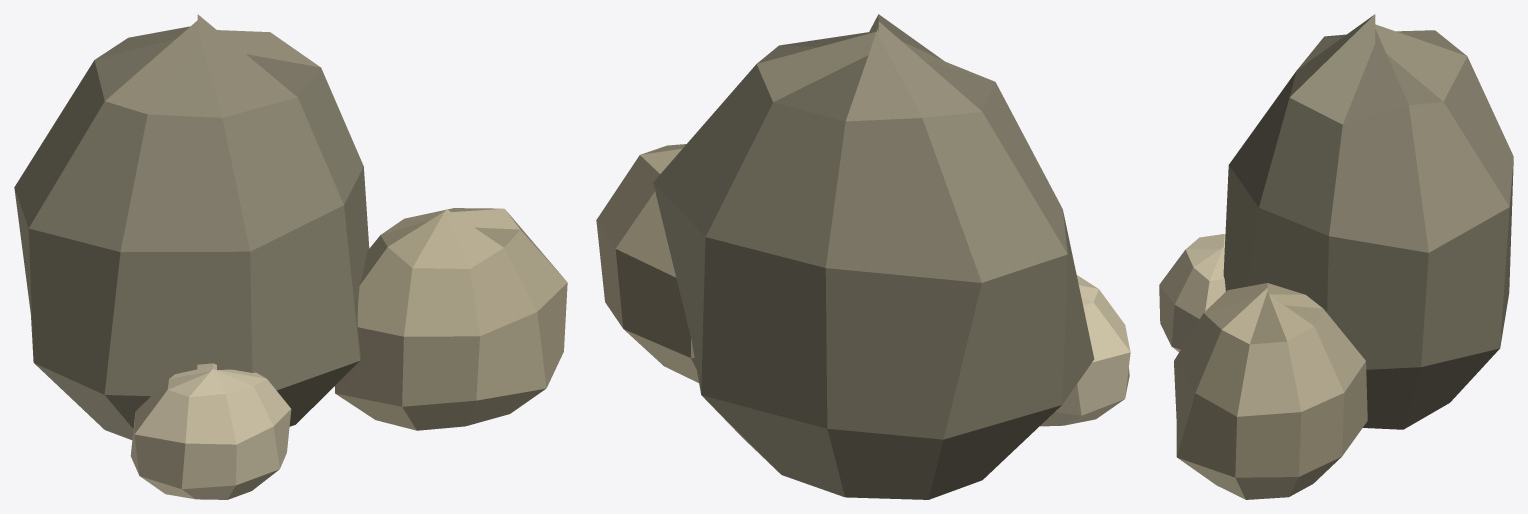
Rendered from 29_boulders.glb.
The picture shows the model from 3 angles, left to right: view 1: azimuth 30°, elevation 25°; view 2: azimuth 150°, elevation 25°; view 3: azimuth 270°, elevation 25°; orthographic projection. The views are drawn at different scales.
Visible parts, largest first — view 1: Boulder, Boulder.001, Boulder.002; view 2: Boulder, Boulder.001, Boulder.002; view 3: Boulder, Boulder.001, Boulder.002.
Part boxes in pixels (x1,y1,x2,y2): Boulder: (14,14,369,439); Boulder.001: (334,208,567,430); Boulder.002: (130,363,291,499); Boulder: (653,14,1094,499); Boulder.001: (596,144,698,382); Boulder.002: (1040,275,1130,426); Boulder: (1223,14,1513,429); Boulder.001: (1174,283,1367,499); Boulder.002: (1159,234,1225,352).
Size of the model in its own units: 1.72 by 1.39 by 1.22.
